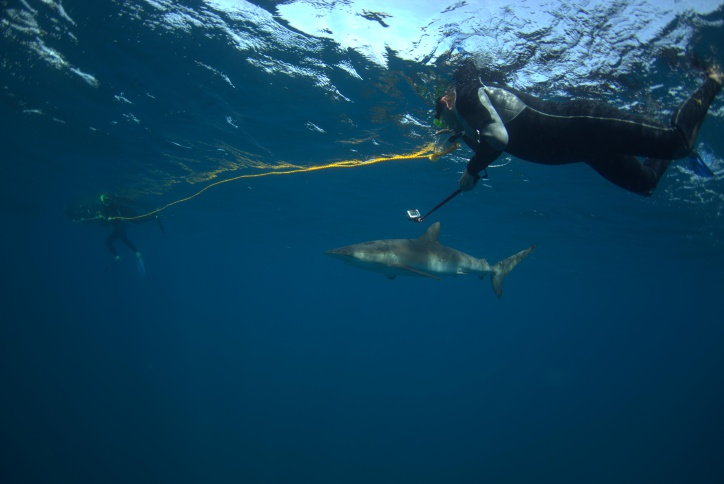Sedoso: (299, 220, 556, 308)
